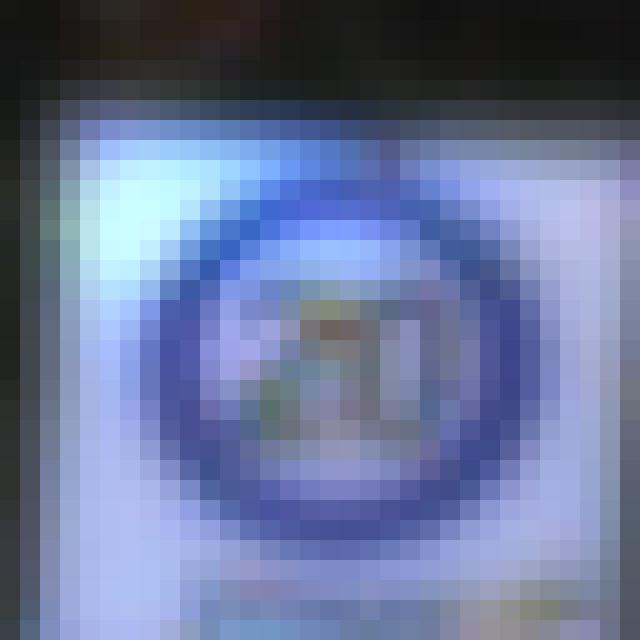SPEED LIMIT 20: (147, 181, 548, 534)
